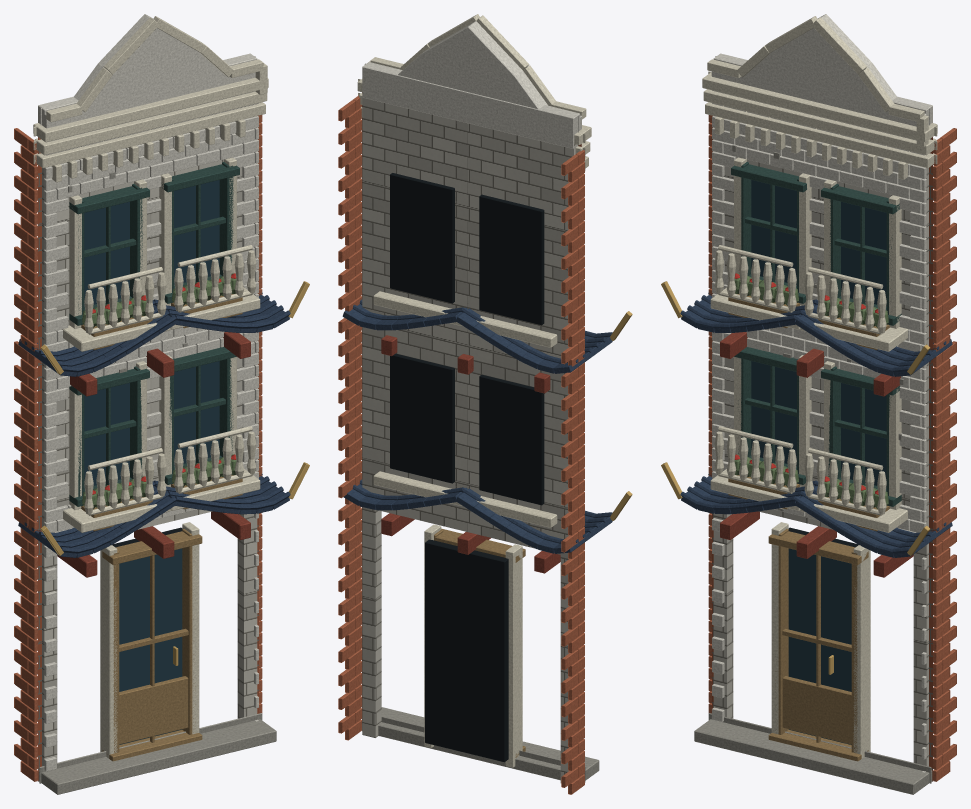
File: CHINA16_lod0.glb
The picture shows the model from 3 angles, left to right: view 1: azimuth 30°, elevation 25°; view 2: azimuth 150°, elevation 25°; view 3: azimuth 330°, elevation 25°; orthographic projection.
Parts seen in each view (by area): view 1: CHINA16_FRONT_LOD0; view 2: CHINA16_FRONT_LOD0; view 3: CHINA16_FRONT_LOD0.
Part boxes in pixels (<box>): CHINA16_FRONT_LOD0: <box>14,14,309,794</box>; CHINA16_FRONT_LOD0: <box>338,14,632,794</box>; CHINA16_FRONT_LOD0: <box>661,14,956,794</box>.
Size of the model in its own units: 4.01 by 10.64 by 1.27.
20 materials, 17 textured.
